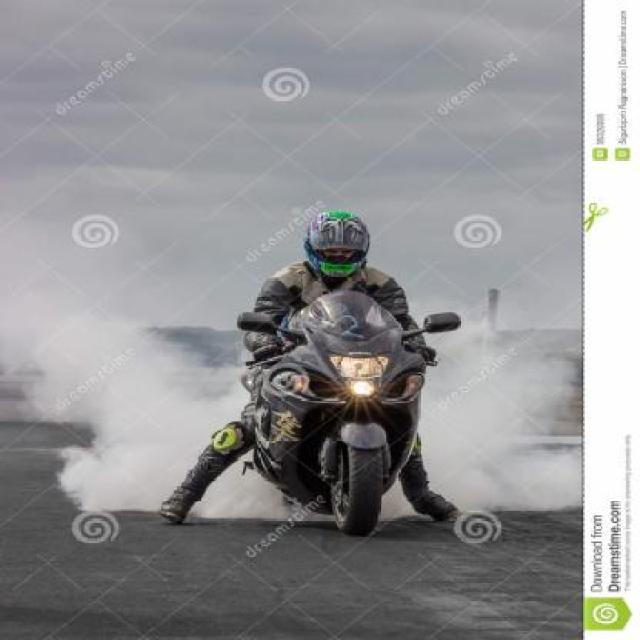helmet: (298, 202, 376, 287)
motorcycle: (140, 200, 487, 558)
